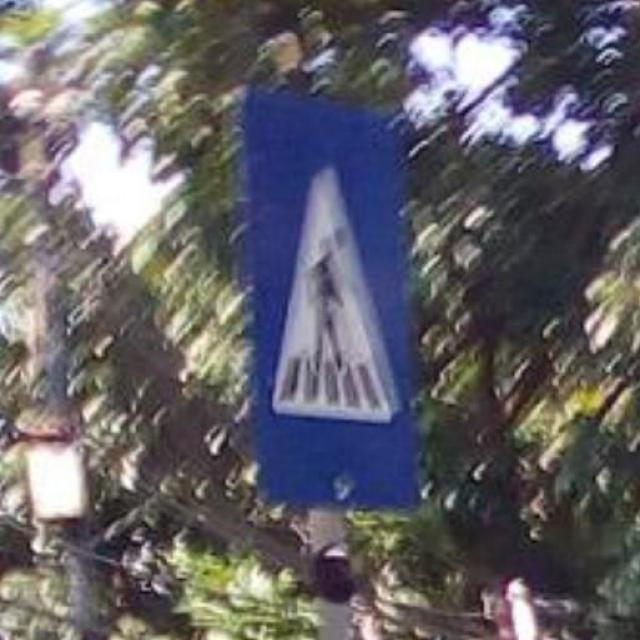traffic sign: (235, 99, 421, 503)
